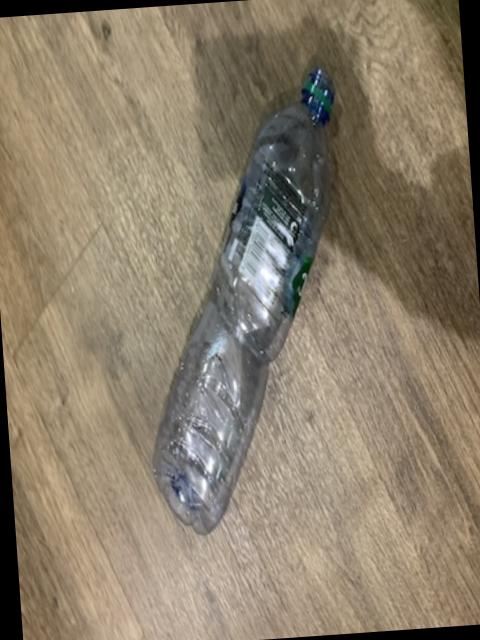plastic: (154, 66, 334, 530)
